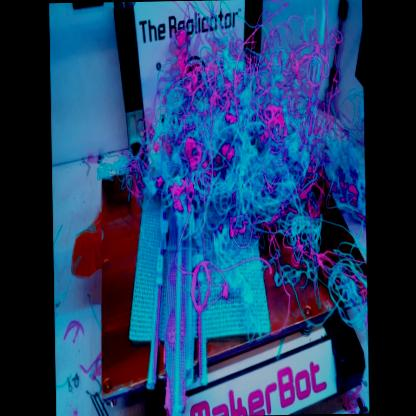fail: (148, 36, 368, 321)
